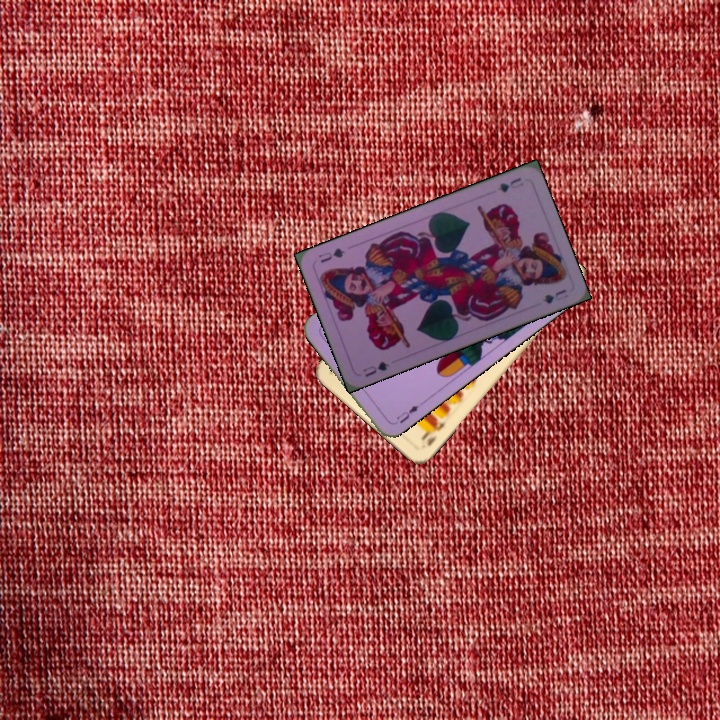E10: (417, 416, 449, 449)
EU: (388, 399, 425, 427)
GU: (359, 357, 392, 380), (494, 173, 526, 195)
